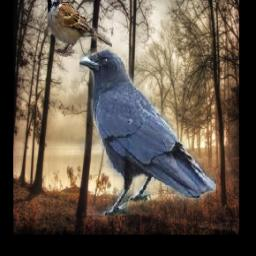Crow: (80, 49, 217, 216)
Sparrow: (41, 0, 112, 59)
